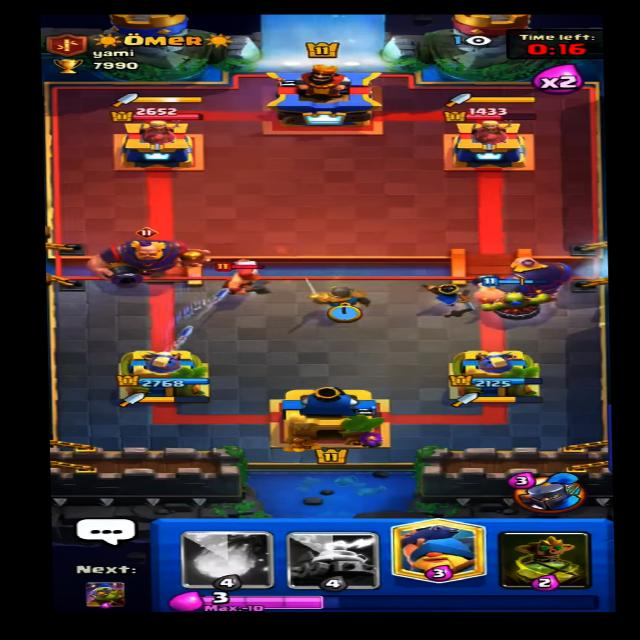evo-royal-giant: (79, 225, 209, 285)
lumberjack: (207, 259, 277, 294)
